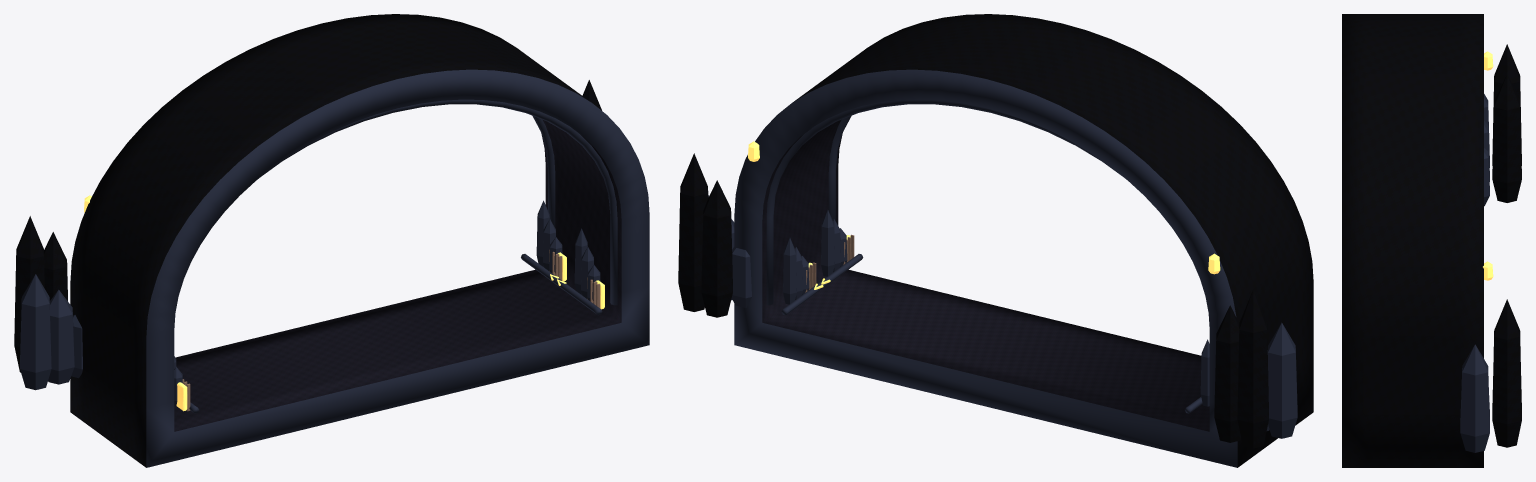
File: portal_exit_lod1.glb
3 renders of one model, left to right at view 1: azimuth 30°, elevation 25°; view 2: azimuth 150°, elevation 25°; view 3: azimuth 270°, elevation 25°, orthographic. The views are drawn at different scales.
Parts seen in each view (by area): view 1: TunnelGeometry.001; view 2: TunnelGeometry.001; view 3: TunnelGeometry.001.
Boxes of the visible parts, <box> form: TunnelGeometry.001: <box>14,14,649,467</box>; TunnelGeometry.001: <box>678,14,1313,467</box>; TunnelGeometry.001: <box>1342,14,1521,467</box>.
Bounding box in the file's own units: 18.66 × 9.52 × 5.07.
Materials: 5 (2 with a texture image).
